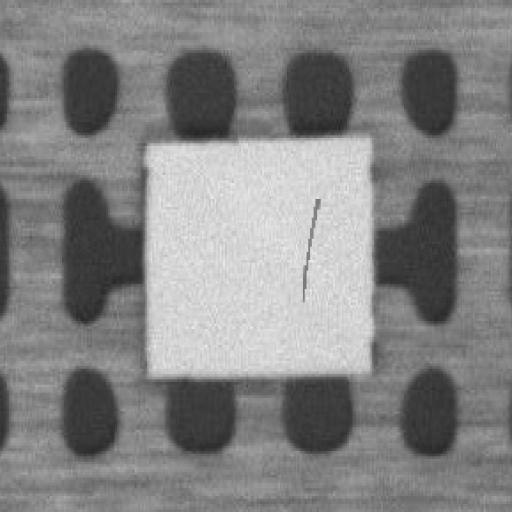DIE_INK: (301, 196, 319, 297)
